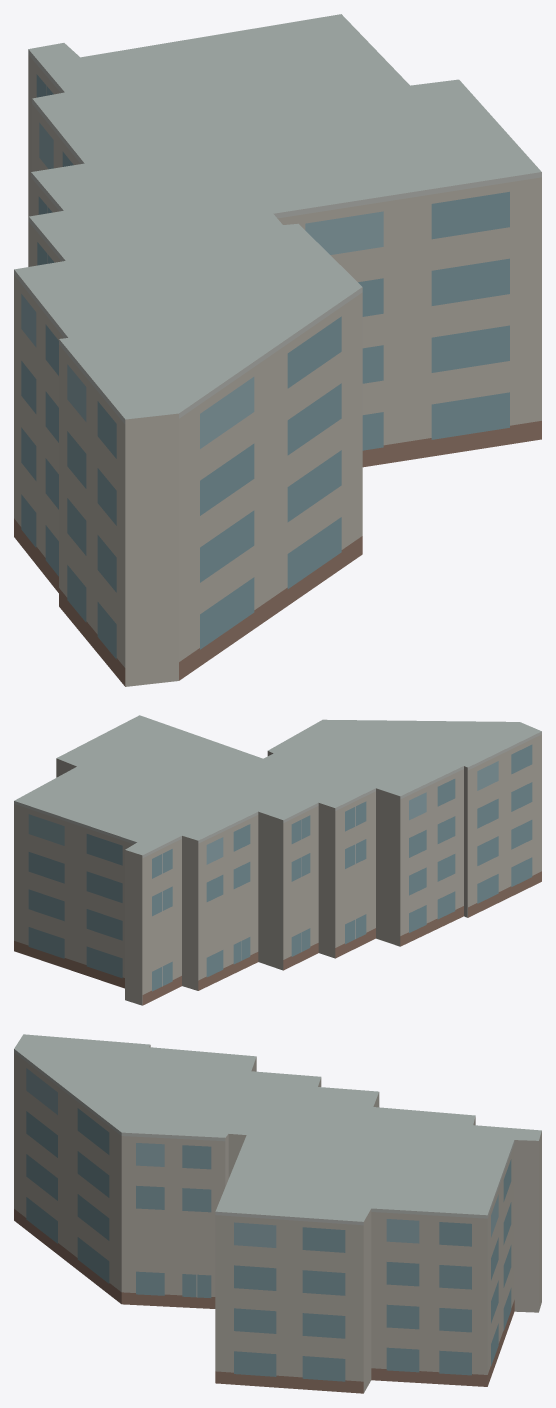
Rendered from survey-upis-33015944.glb.
The picture shows the model from 3 angles, top to bottom: view 1: azimuth 30°, elevation 25°; view 2: azimuth 150°, elevation 25°; view 3: azimuth 270°, elevation 25°; orthographic projection. The views are drawn at different scales.
Parts seen in each view (by area): view 1: survey-upis-33015944.tmp; view 2: survey-upis-33015944.tmp; view 3: survey-upis-33015944.tmp.
Boxes of the visible parts, <box> form: survey-upis-33015944.tmp: <box>14,14,541,686</box>; survey-upis-33015944.tmp: <box>14,715,541,1005</box>; survey-upis-33015944.tmp: <box>14,1034,541,1393</box>.
Bounding box in the file's own units: 28.59 × 12.2 × 33.99.
